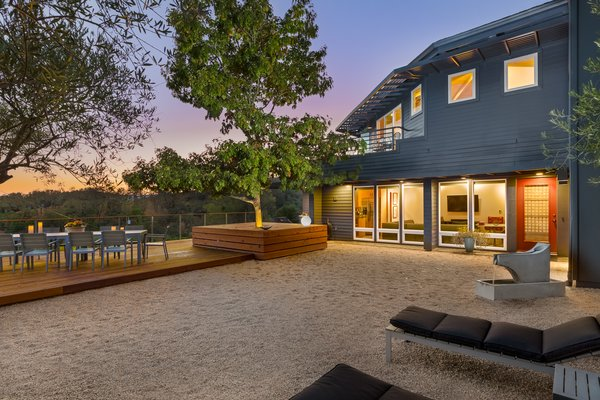tree: (152, 6, 349, 224)
